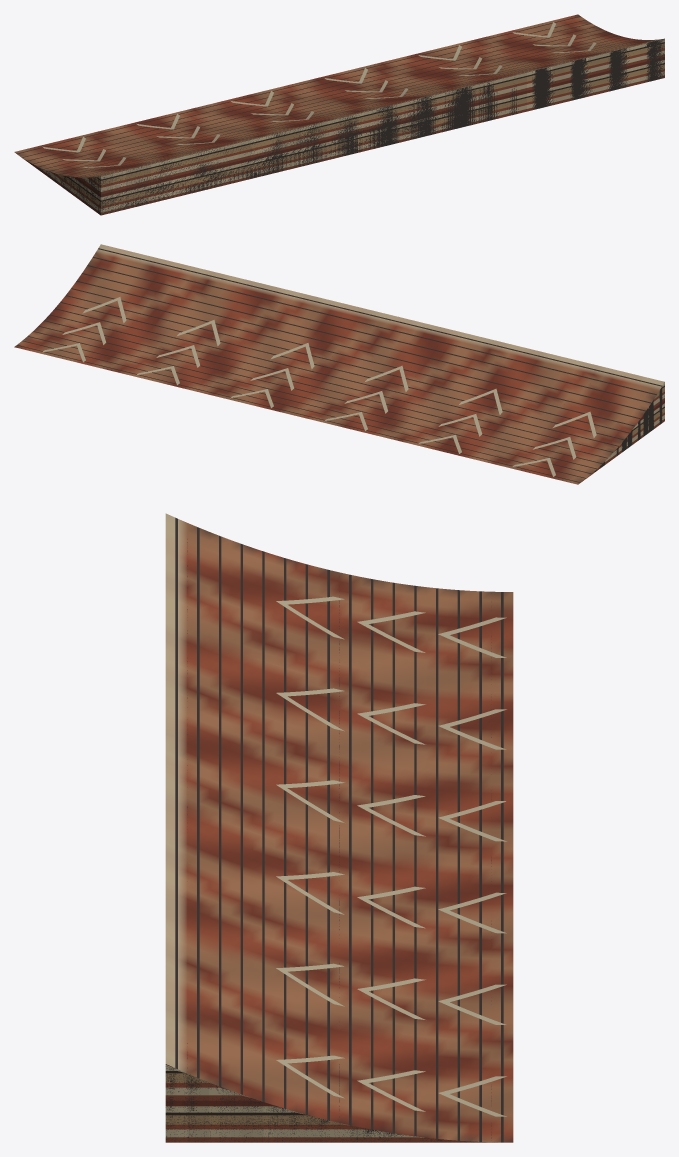
The model's file is mesa_lip_kicker_24x6x90.glb.
3 views of the same model, one above another, from view 1: azimuth 30°, elevation 25°; view 2: azimuth 150°, elevation 25°; view 3: azimuth 270°, elevation 25° (orthographic). The views are drawn at different scales.
Parts seen in each view (by area): view 1: mesa_lip_kicker_24x6x90, mesa_lip_kicker_24x6x90-col; view 2: mesa_lip_kicker_24x6x90, mesa_lip_kicker_24x6x90-col; view 3: mesa_lip_kicker_24x6x90, mesa_lip_kicker_24x6x90-col.
Part boxes in pixels (box(x1,y1,x2,y2)): mesa_lip_kicker_24x6x90: box(14, 14, 664, 215); mesa_lip_kicker_24x6x90-col: box(16, 16, 664, 215); mesa_lip_kicker_24x6x90: box(14, 244, 664, 484); mesa_lip_kicker_24x6x90-col: box(17, 248, 664, 482); mesa_lip_kicker_24x6x90: box(165, 513, 513, 1142); mesa_lip_kicker_24x6x90-col: box(165, 517, 503, 1142).
Size of the model in its own units: 90 by 6 by 24.
